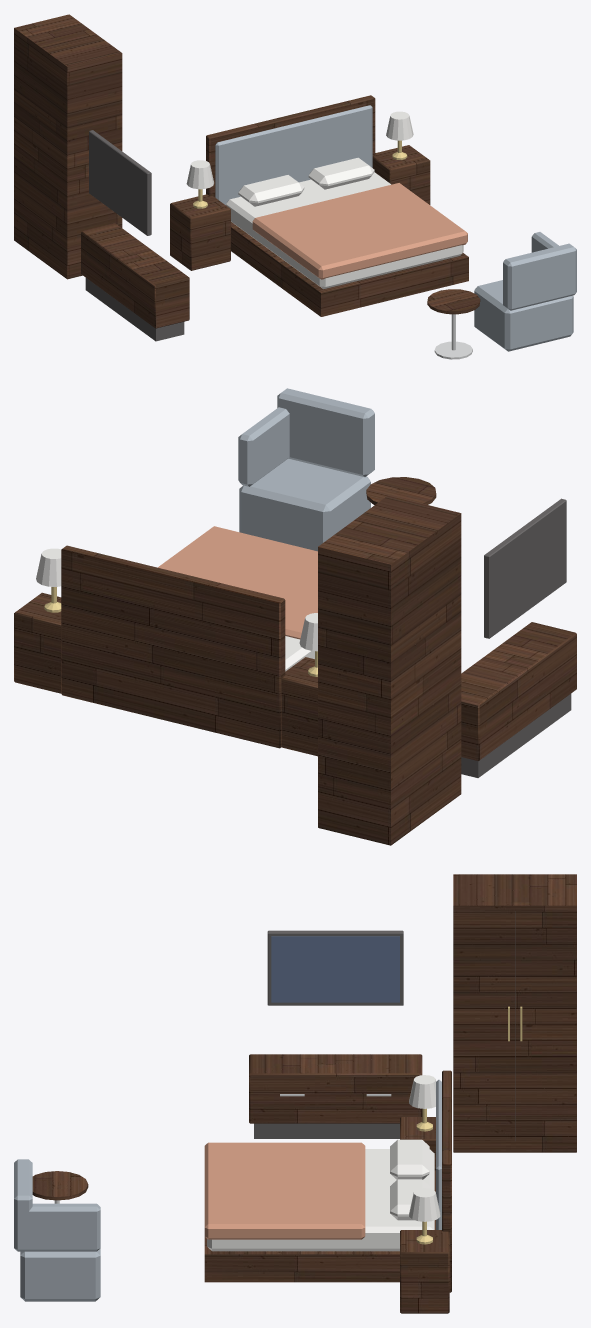
File: room_front_r.glb
3 views of the same model, one above another, from view 1: azimuth 30°, elevation 25°; view 2: azimuth 150°, elevation 25°; view 3: azimuth 270°, elevation 25° (orthographic). The views are drawn at different scales.
Parts seen in each view (by area): view 1: room_front_r_dkwood, room_front_r_fabric, room_front_r_fabric2, room_front_r_linen, room_front_r_dark, room_front_r_steel; view 2: room_front_r_dkwood, room_front_r_fabric, room_front_r_dark, room_front_r_fabric2, room_front_r_linen; view 3: room_front_r_dkwood, room_front_r_fabric2, room_front_r_fabric, room_front_r_linen, room_front_r_sign, room_front_r_dark, room_front_r_gold.
Part boxes in pixels (bbox=[...]): room_front_r_dkwood: bbox=[14, 14, 480, 328]; room_front_r_fabric: bbox=[215, 105, 576, 351]; room_front_r_fabric2: bbox=[252, 183, 467, 279]; room_front_r_linen: bbox=[186, 111, 463, 289]; room_front_r_dark: bbox=[85, 130, 184, 341]; room_front_r_steel: bbox=[434, 314, 472, 359]; room_front_r_dkwood: bbox=[14, 477, 576, 845]; room_front_r_fabric: bbox=[238, 388, 374, 551]; room_front_r_dark: bbox=[461, 498, 571, 777]; room_front_r_fabric2: bbox=[158, 526, 317, 639]; room_front_r_linen: bbox=[36, 548, 317, 671]; room_front_r_dkwood: bbox=[32, 874, 576, 1313]; room_front_r_fabric2: bbox=[204, 1142, 365, 1239]; room_front_r_fabric: bbox=[14, 1079, 441, 1301]; room_front_r_linen: bbox=[207, 1075, 440, 1251]; room_front_r_sign: bbox=[271, 936, 399, 1002]; room_front_r_dark: bbox=[254, 911, 515, 1140]; room_front_r_gold: bbox=[416, 1006, 522, 1244].
Bounding box in the file's own units: 3.69 × 2.2 × 4.55.
Materials: 8 (1 with a texture image).
